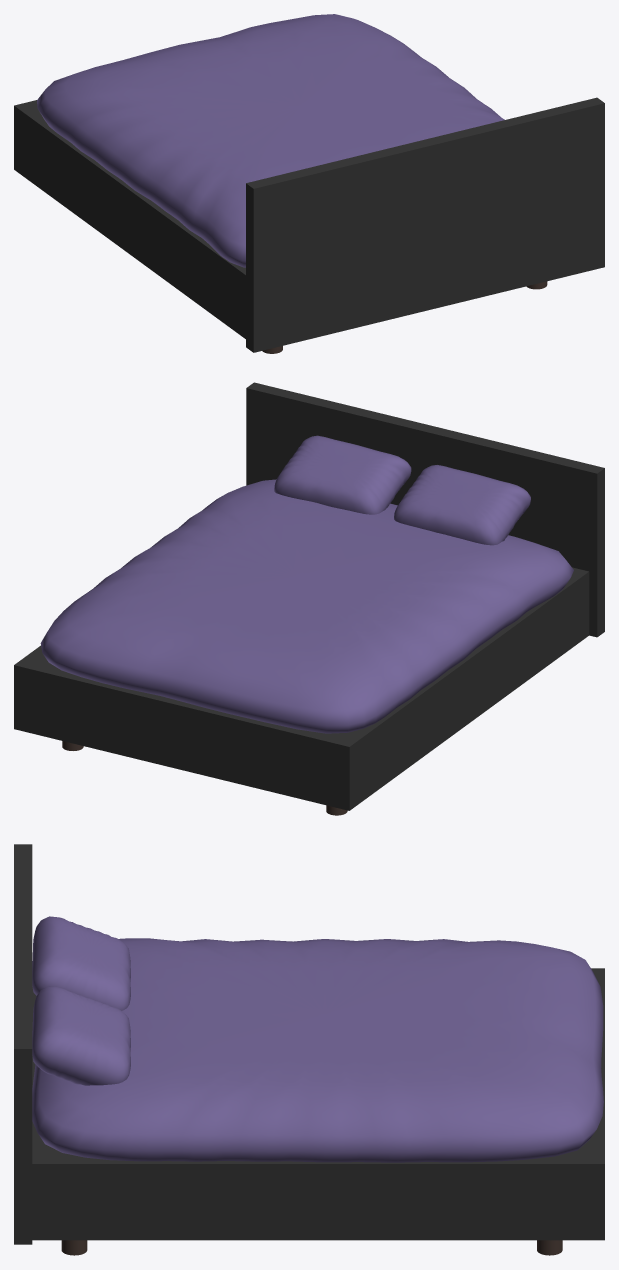
The model's file is Lit2_7.fbx.
3 views of the same model, one above another, from view 1: azimuth 30°, elevation 25°; view 2: azimuth 150°, elevation 25°; view 3: azimuth 270°, elevation 25° (orthographic). The views are drawn at different scales.
Visible parts, largest first — view 1: pCube2137, pCylinder1514, pCube2136; view 2: pCylinder1514, pCube2136, pCube2137, pCylinder1518, pCylinder1513; view 3: pCylinder1514, pCube2136, pCylinder1513, pCube2137, pCylinder1518, pCylinder1515.
Boxes of the visible parts, left/top/right/bottom form: pCube2137: left=246, top=97, right=604, bottom=352; pCylinder1514: left=37, top=14, right=504, bottom=267; pCube2136: left=14, top=100, right=245, bottom=338; pCylinder1514: left=40, top=479, right=573, bottom=733; pCube2136: left=14, top=567, right=589, bottom=810; pCube2137: left=246, top=382, right=604, bottom=637; pCylinder1518: left=394, top=465, right=530, bottom=545; pCylinder1513: left=274, top=435, right=411, bottom=514; pCylinder1514: left=32, top=938, right=603, bottom=1162; pCube2136: left=32, top=968, right=604, bottom=1240; pCylinder1513: left=32, top=986, right=130, bottom=1085; pCube2137: left=14, top=844, right=32, bottom=1244; pCylinder1518: left=32, top=916, right=130, bottom=1010; pCylinder1515: left=61, top=1240, right=562, bottom=1255.
Size of the model in its own units: 117 by 60.53 by 143.
